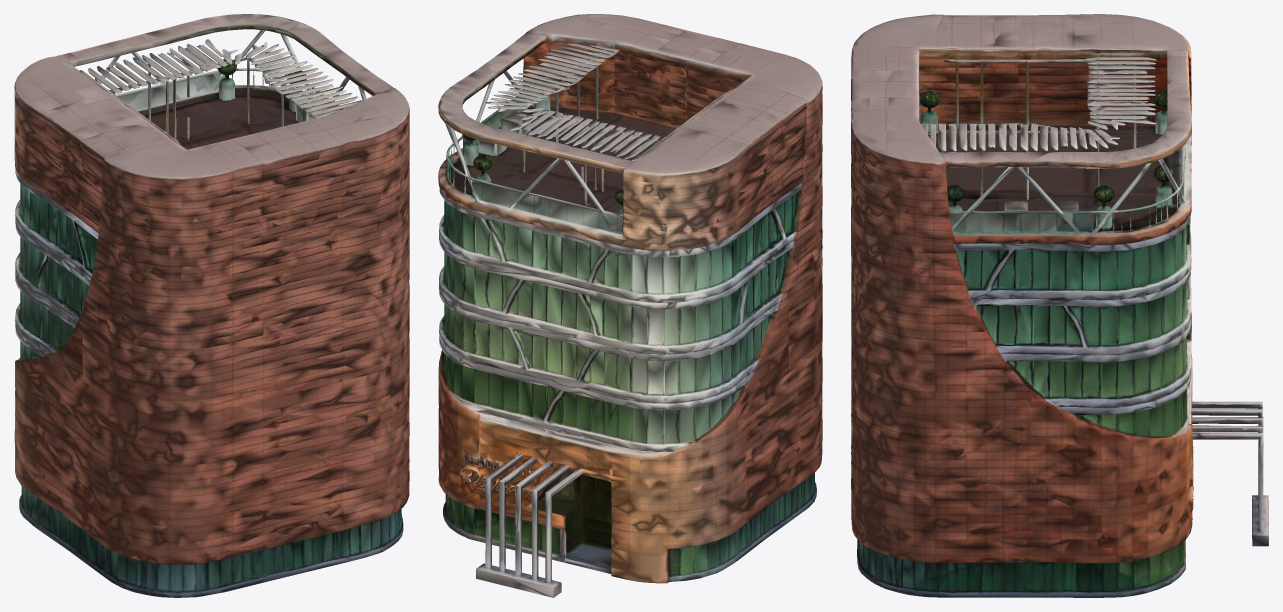
The model's file is EbonyLife_tower_opt.glb.
3 renders of one model, left to right at view 1: azimuth 30°, elevation 25°; view 2: azimuth 150°, elevation 25°; view 3: azimuth 270°, elevation 25°, orthographic. The views are drawn at different scales.
Parts seen in each view (by area): view 1: tripo_node_68180c02-81d8-4383-b53f-be17f61c13a3; view 2: tripo_node_68180c02-81d8-4383-b53f-be17f61c13a3; view 3: tripo_node_68180c02-81d8-4383-b53f-be17f61c13a3.
Part boxes in pixels (bbox=[...]): tripo_node_68180c02-81d8-4383-b53f-be17f61c13a3: bbox=[14, 14, 409, 597]; tripo_node_68180c02-81d8-4383-b53f-be17f61c13a3: bbox=[438, 14, 822, 597]; tripo_node_68180c02-81d8-4383-b53f-be17f61c13a3: bbox=[851, 14, 1268, 597].
Bounding box in the file's own units: 0.7131 × 0.9816 × 0.8416.
1 material, 1 textured.
